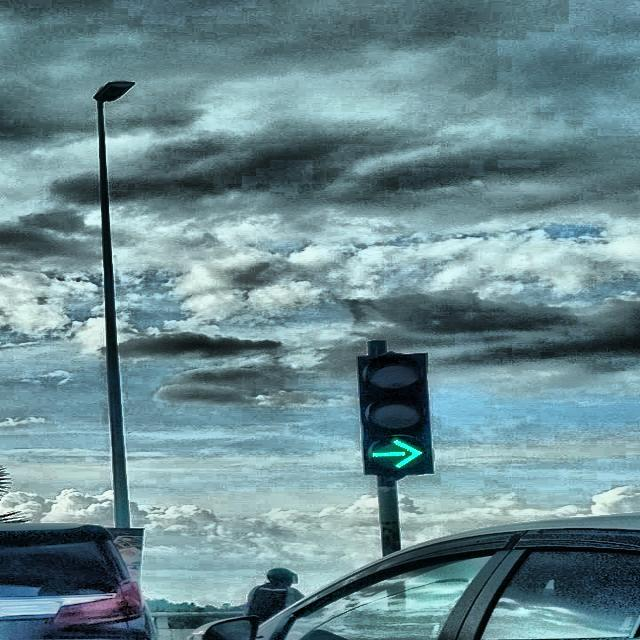green: (362, 353, 434, 474)
